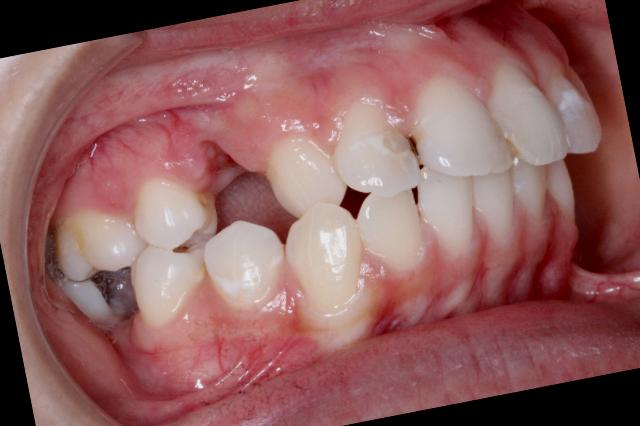canine class II 1/2: (184, 117, 371, 323)
